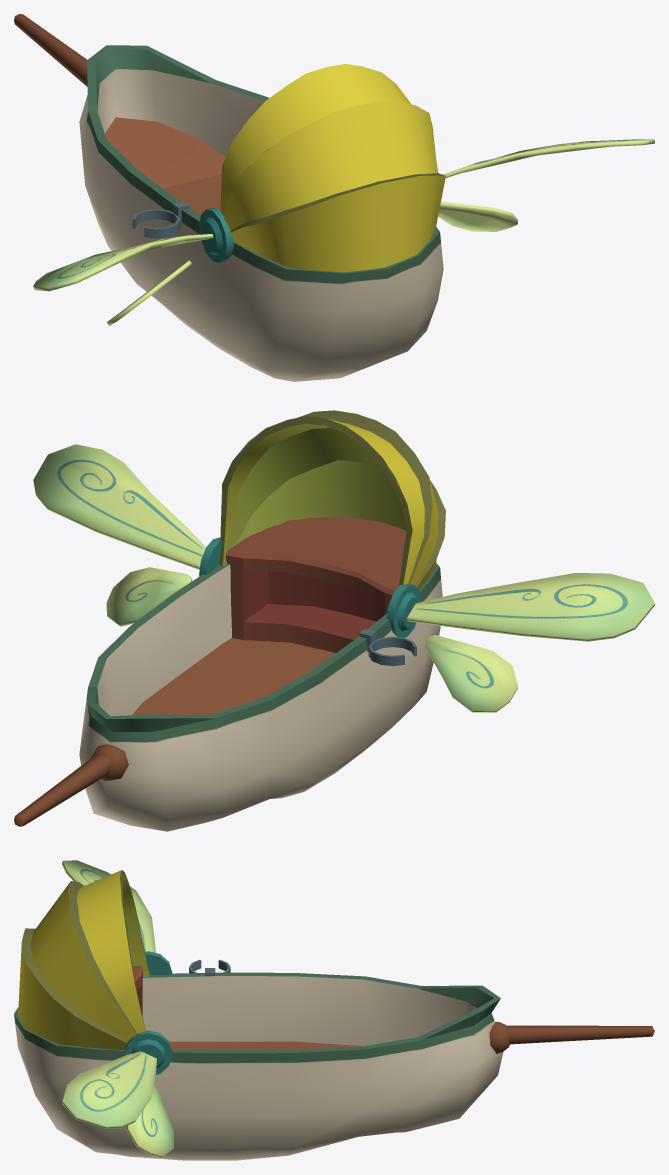
The model's file is Ship.fbx.
3 renders of one model, top to bottom at view 1: azimuth 30°, elevation 25°; view 2: azimuth 150°, elevation 25°; view 3: azimuth 270°, elevation 25°, orthographic. The views are drawn at different scales.
Visible parts, largest first — view 1: Ship, Cover, UpperWingL, LowerWingR, UpperWingR, Stick, WingsBase, PotHolder, LowerWingL; view 2: Ship, Cover, Table, UpperWingL, UpperWingR, LowerWingL, LowerWingR, Stick, WingsBase, PotHolder; view 3: Ship, Cover, UpperWingR, Stick, LowerWingR, WingsBase, UpperWingL.
Part boxes in pixels (<box>): Ship: <box>79,45,443,381</box>; Cover: <box>220,64,445,272</box>; UpperWingL: <box>33,234,213,291</box>; LowerWingR: <box>438,202,518,231</box>; UpperWingR: <box>443,139,654,177</box>; Stick: <box>14,14,87,86</box>; WingsBase: <box>199,207,233,262</box>; PotHolder: <box>132,201,189,238</box>; LowerWingL: <box>107,260,191,325</box>; Ship: <box>79,563,442,831</box>; Cover: <box>219,410,445,589</box>; Table: <box>225,516,406,653</box>; UpperWingL: <box>406,573,654,641</box>; UpperWingR: <box>33,444,205,569</box>; LowerWingL: <box>425,635,517,712</box>; LowerWingR: <box>106,567,192,626</box>; Stick: <box>14,744,128,826</box>; WingsBase: <box>199,537,421,637</box>; PotHolder: <box>359,629,416,666</box>; Ship: <box>14,972,503,1160</box>; Cover: <box>18,870,149,1049</box>; UpperWingR: <box>61,1051,156,1128</box>; Stick: <box>489,1022,654,1053</box>; LowerWingR: <box>126,1084,173,1157</box>; WingsBase: <box>124,951,172,1074</box>; UpperWingL: <box>61,860,155,952</box>.
Size of the model in its own units: 488 by 238 by 515.
